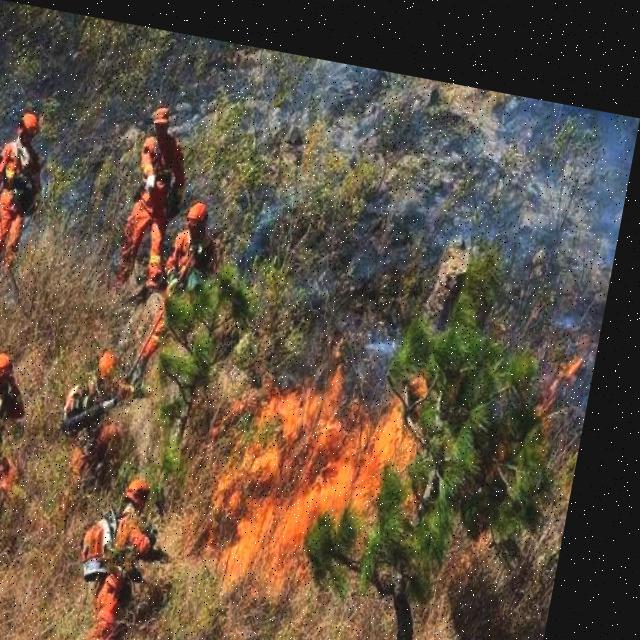Fire: (193, 322, 453, 600)
